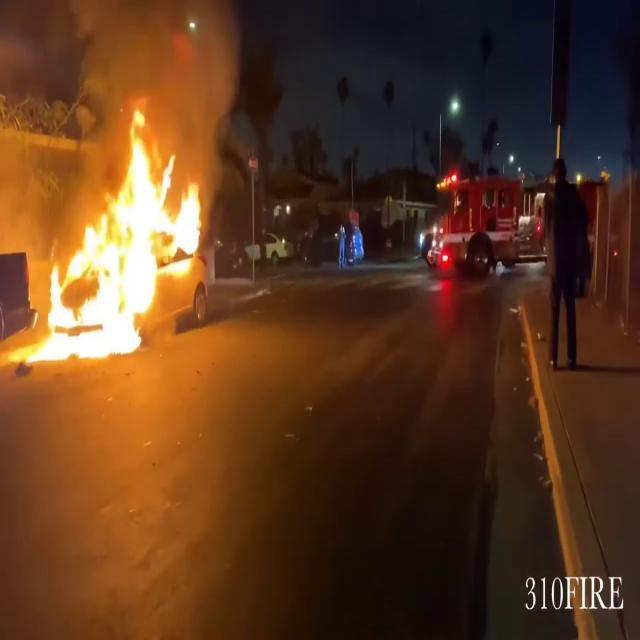Fire: (35, 105, 209, 364)
Smoke: (86, 0, 250, 154)
